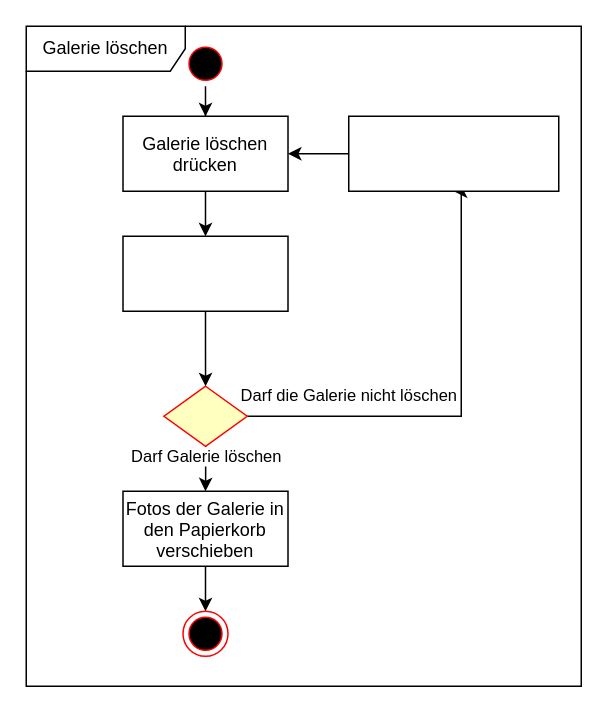
Image size: 608x713. Some labels were removed from this diagram. The shapes that lost their labels are listed below. From the top down, each one's centre as x and y in pixels, then its label:
(453,153): Fehlermeldung anzeigen
(205,273): Token/Benutzer validieren
